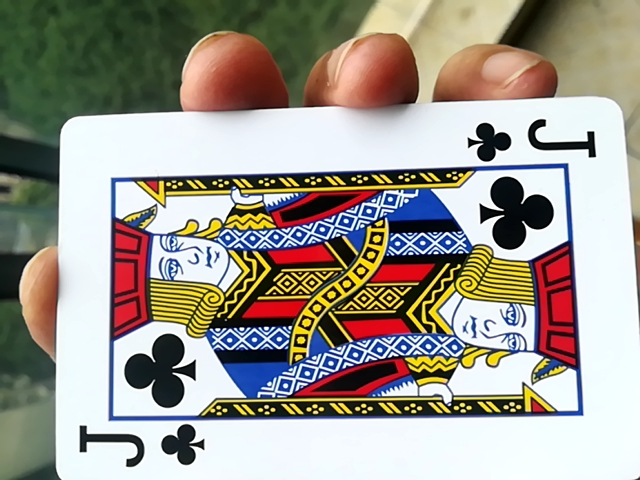mh j: (42, 107, 629, 472)
